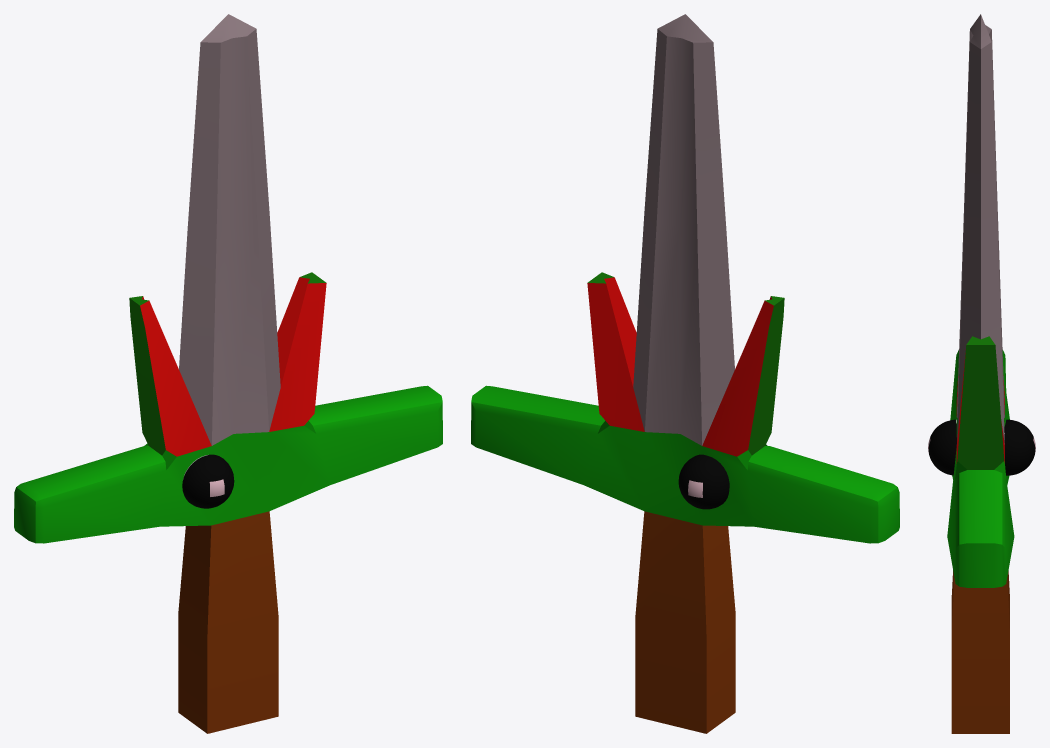
Rendered from (W) Sword With mouth.fbx.
The picture shows the model from 3 angles, left to right: view 1: azimuth 30°, elevation 25°; view 2: azimuth 150°, elevation 25°; view 3: azimuth 270°, elevation 25°; orthographic projection.
Visible parts, largest first — view 1: Sword with mouth; view 2: Sword with mouth; view 3: Sword with mouth.
Part boxes in pixels (x1,y1,x2,y2): Sword with mouth: (14, 14, 442, 733); Sword with mouth: (471, 14, 899, 733); Sword with mouth: (928, 14, 1035, 733).
Size of the model in its own units: 1306 by 2119 by 295.
